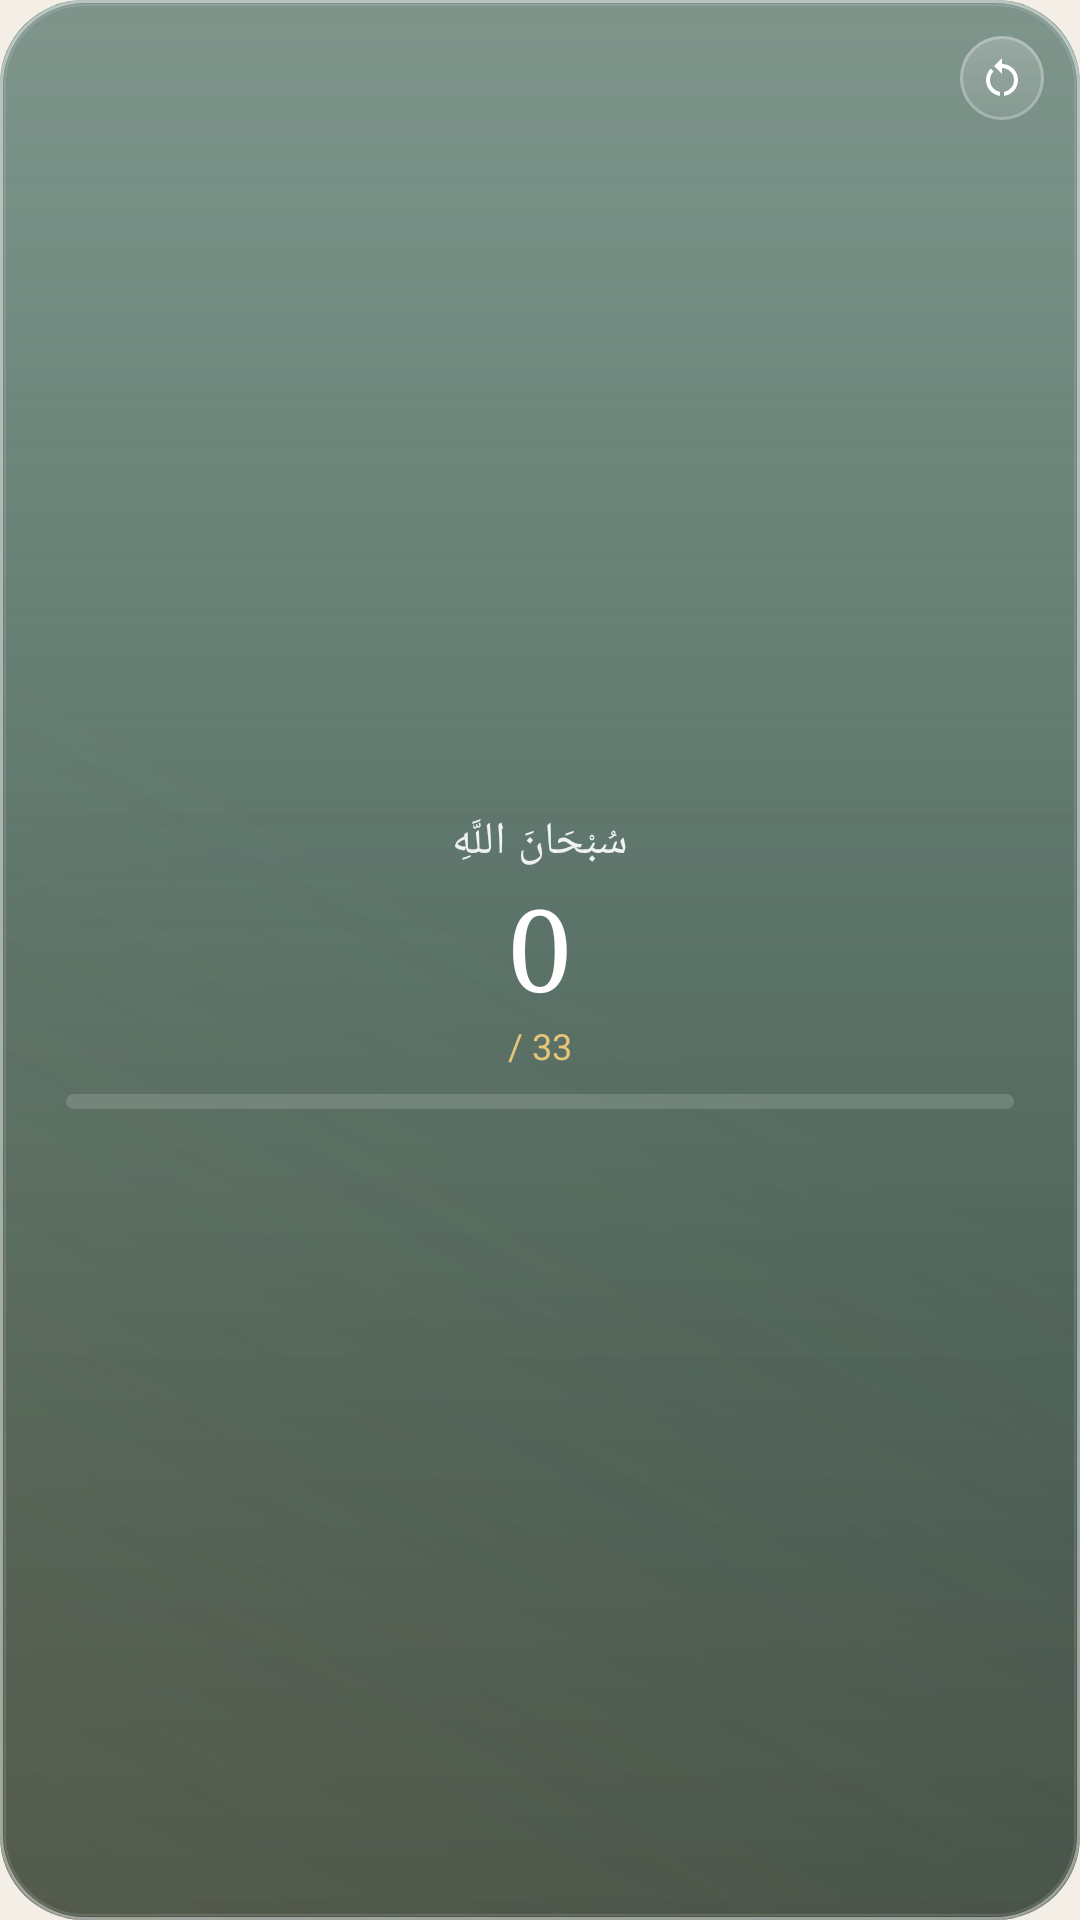

Icon click points for this 1080px×1920px phone screenshot, format [x,y]:
Reset: [1002,78]
